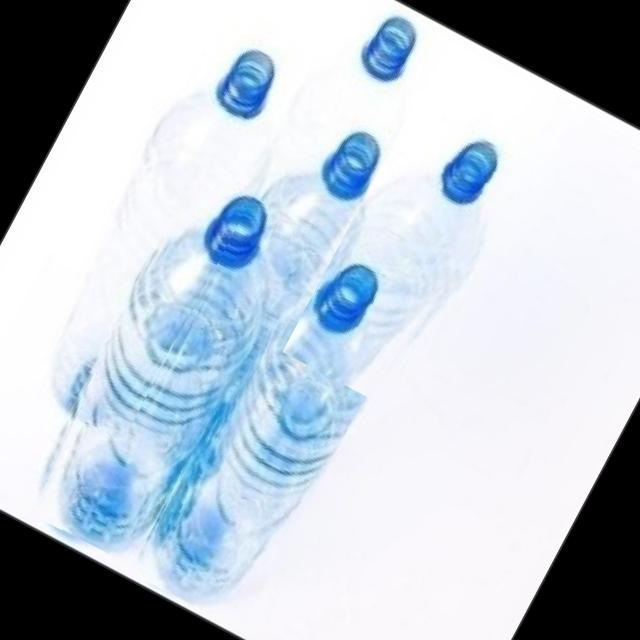plastic bottle: (16, 23, 314, 441), (115, 226, 420, 631), (11, 165, 311, 568), (282, 103, 524, 410)
